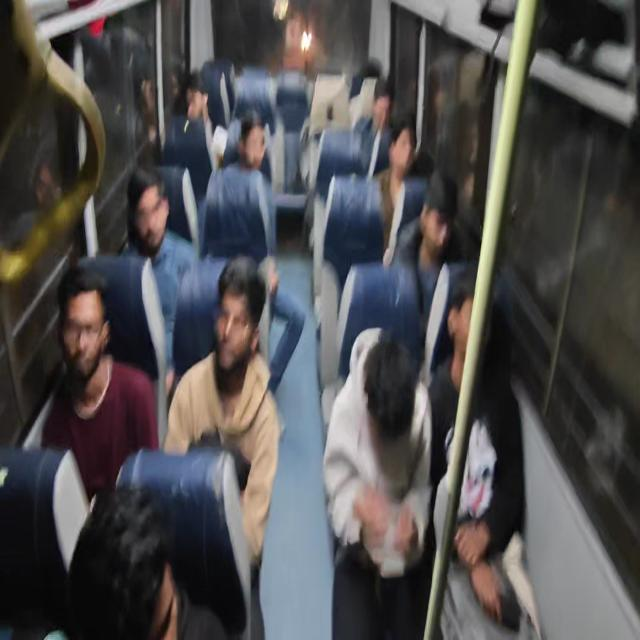person: (63, 274, 140, 454), (89, 467, 161, 640), (0, 450, 65, 640), (340, 299, 409, 456), (195, 279, 265, 382), (127, 174, 192, 283), (446, 275, 499, 408), (412, 157, 456, 256), (177, 77, 216, 146), (375, 84, 405, 137), (230, 108, 258, 153), (391, 121, 415, 166), (357, 59, 384, 90)
